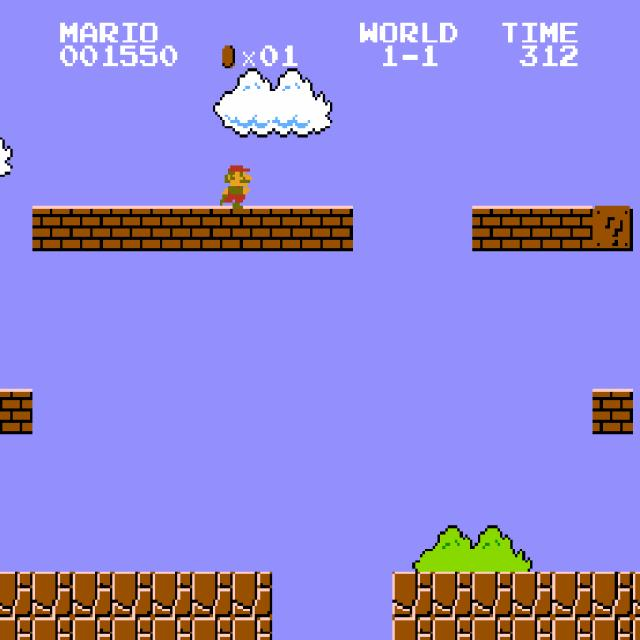brick_block: (32, 206, 73, 251), (72, 206, 113, 251), (112, 206, 153, 251), (152, 206, 193, 251), (192, 206, 233, 251), (232, 206, 273, 251), (272, 206, 313, 251), (312, 206, 353, 251), (472, 206, 513, 251), (512, 206, 553, 251), (552, 206, 593, 251), (592, 389, 633, 434), (0, 388, 32, 434)
little_mario: (213, 160, 255, 208)
mystery_block: (592, 206, 633, 251)
undestructible_block: (32, 572, 73, 617), (72, 572, 113, 617), (112, 572, 153, 617), (152, 572, 193, 617), (192, 572, 233, 617), (232, 572, 273, 617), (392, 572, 433, 617), (432, 572, 473, 617), (472, 572, 513, 617), (512, 572, 553, 617), (552, 572, 593, 617), (592, 572, 633, 617), (0, 571, 32, 617), (32, 617, 73, 640), (72, 617, 113, 640), (112, 617, 153, 640), (152, 617, 193, 640), (192, 617, 233, 640), (232, 617, 273, 640), (392, 617, 433, 640), (432, 617, 473, 640), (472, 617, 513, 640), (512, 617, 553, 640), (552, 617, 593, 640), (592, 617, 633, 640), (0, 617, 32, 639), (633, 572, 640, 617), (633, 617, 640, 640)
